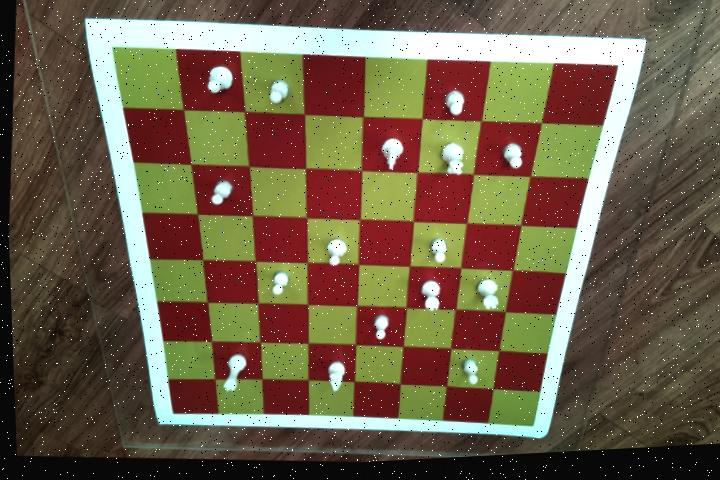chessboard-detect: (108, 48, 618, 433)
